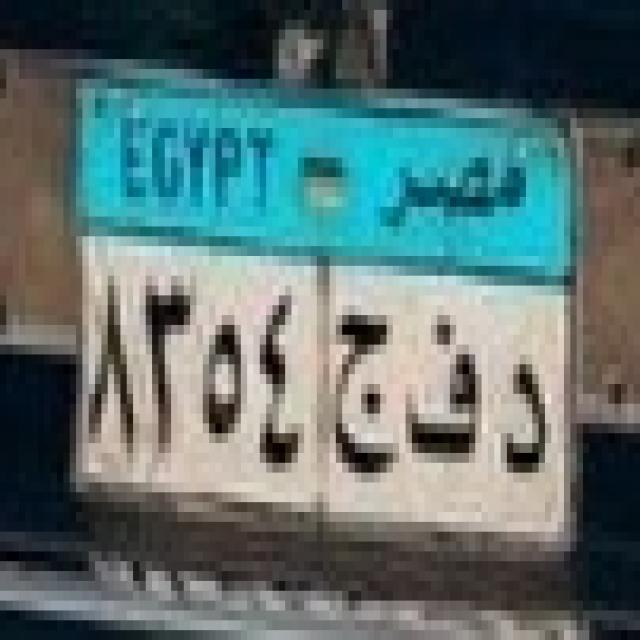3: (137, 272, 199, 458)
4: (252, 283, 305, 469)
5: (200, 304, 250, 450)
8: (84, 260, 142, 458)
F: (397, 292, 489, 488)
daal: (499, 338, 556, 488)
geem: (323, 298, 400, 481)
